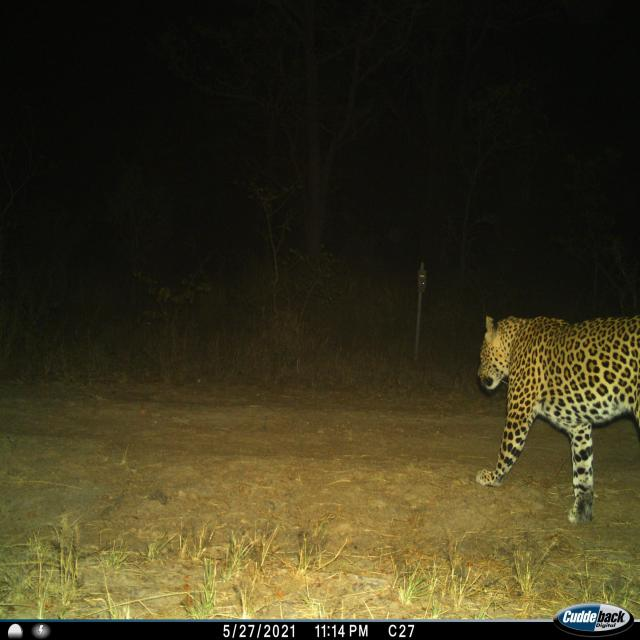Leopard: (465, 317, 637, 527)
